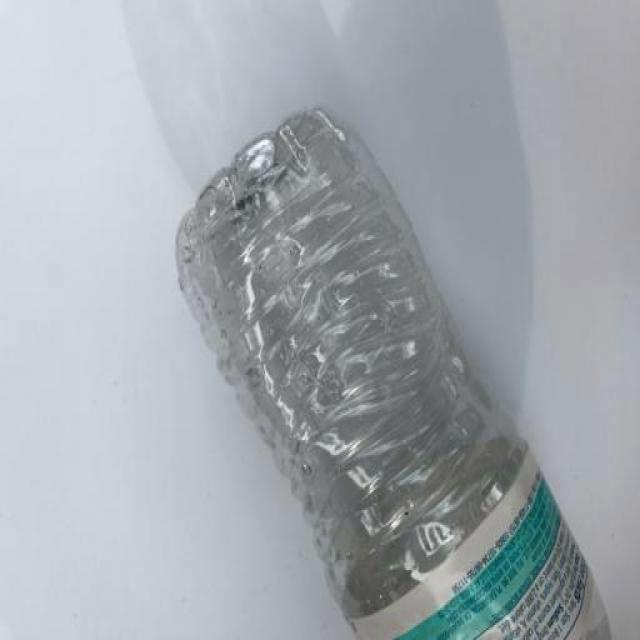bottle: (175, 103, 612, 640)
